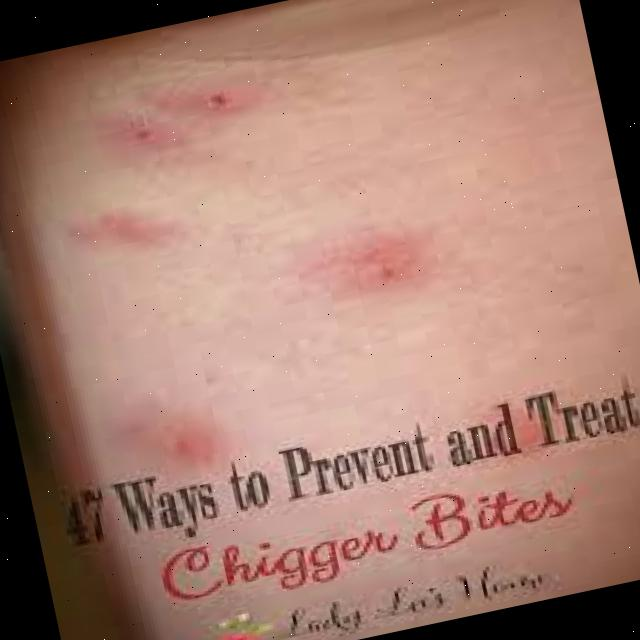kan emici bocekler: (102, 370, 282, 502), (160, 45, 333, 140), (70, 195, 219, 302), (302, 215, 461, 309), (69, 102, 198, 190)
